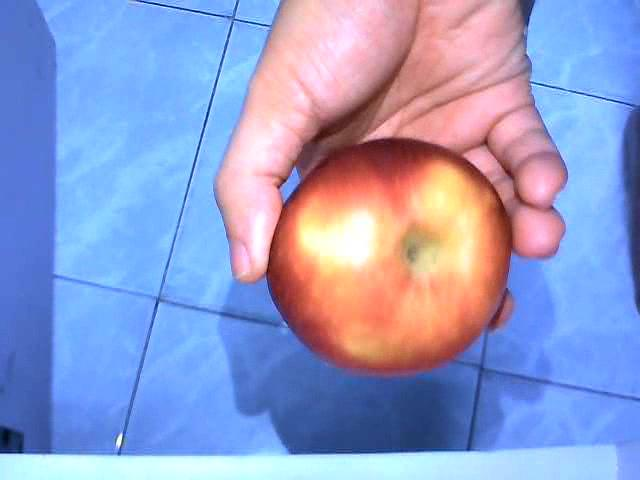apple: (264, 136, 512, 373)
